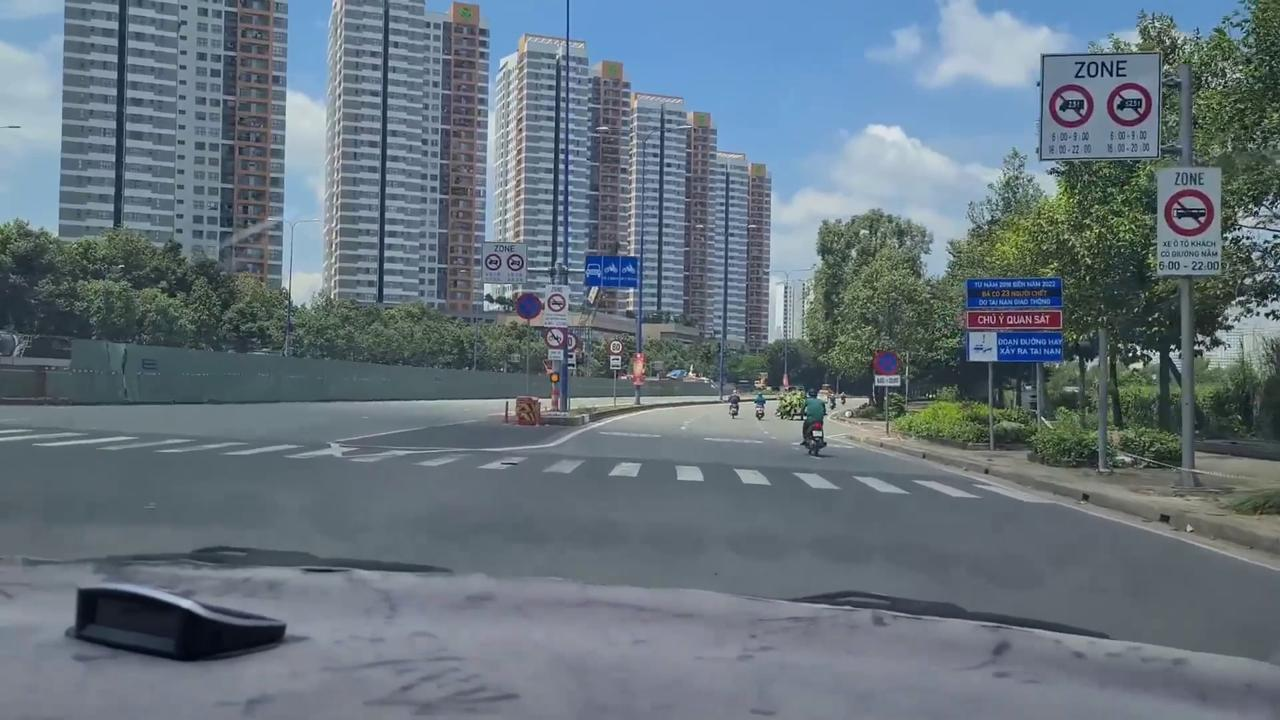Biển phụ: (874, 375, 901, 388), (609, 355, 621, 370)
Cấm cac phương tiện hoạt động trong khung giờ cố định: (1038, 51, 1160, 160), (1153, 164, 1223, 276), (480, 240, 530, 285), (544, 283, 569, 328)
Cấm dừng - Cấm đỗ: (515, 292, 543, 320), (872, 350, 901, 376)
Cấm xe máy: (544, 327, 567, 349)
Giới hạn tốc độ 80Km/h: (609, 339, 624, 355)
Khác: (963, 276, 1065, 364)
Làn đường cho từng xe: (584, 255, 638, 288)
